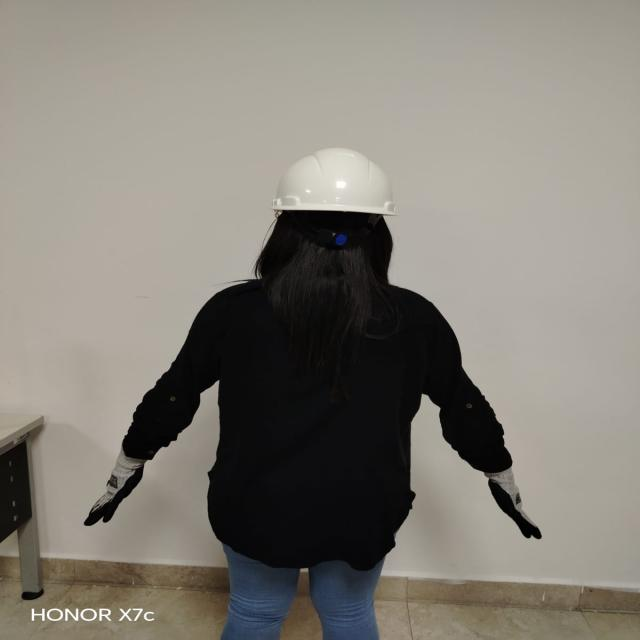gloves: (78, 443, 151, 535), (479, 465, 550, 546)
helmet: (269, 146, 403, 217)
